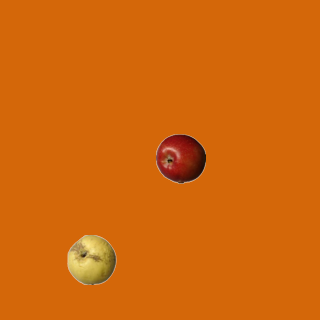Apple Braeburn: (155, 133, 205, 183)
Apple Golden 1: (66, 234, 116, 284)
